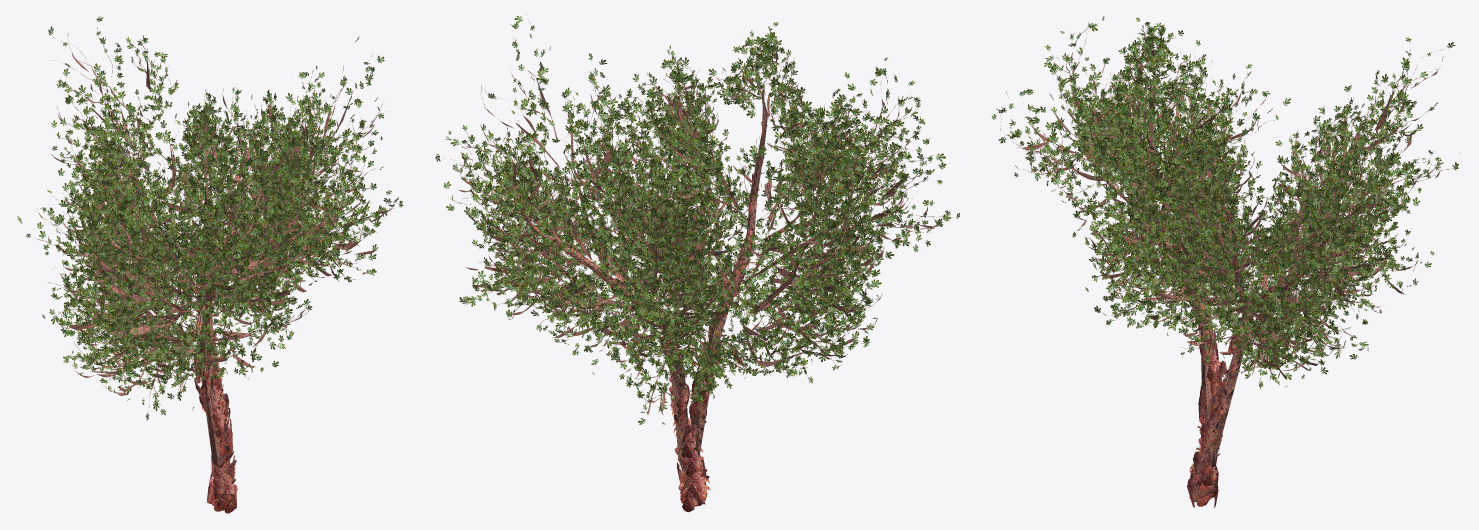
File: quinual.glb
3 views of the same model, side by side, from view 1: azimuth 30°, elevation 25°; view 2: azimuth 150°, elevation 25°; view 3: azimuth 270°, elevation 25° (orthographic). The views are drawn at different scales.
Visible parts, largest first — view 1: quinual; view 2: quinual; view 3: quinual.
Boxes of the visible parts, box(x1,y1,x2,y2) form: quinual: box(17, 16, 403, 513); quinual: box(435, 14, 959, 512); quinual: box(991, 16, 1460, 507).
Size of the model in its own units: 11.14 by 12.55 by 11.5.
20 materials, 20 textured.
